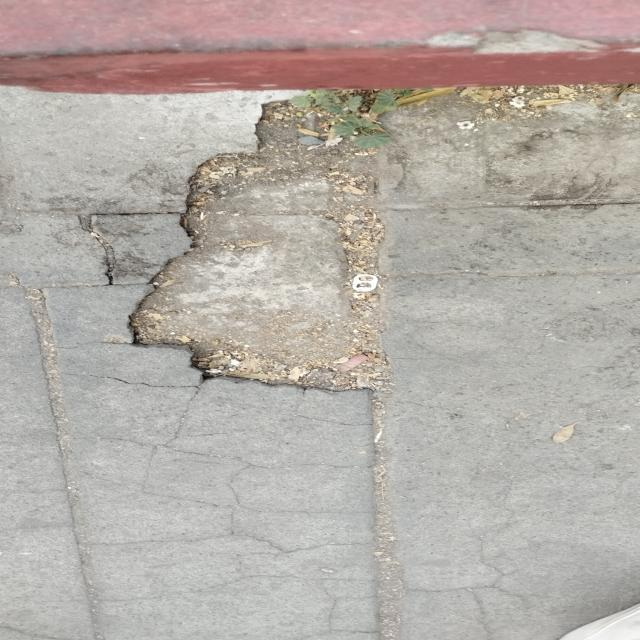hole: (132, 90, 398, 393)
